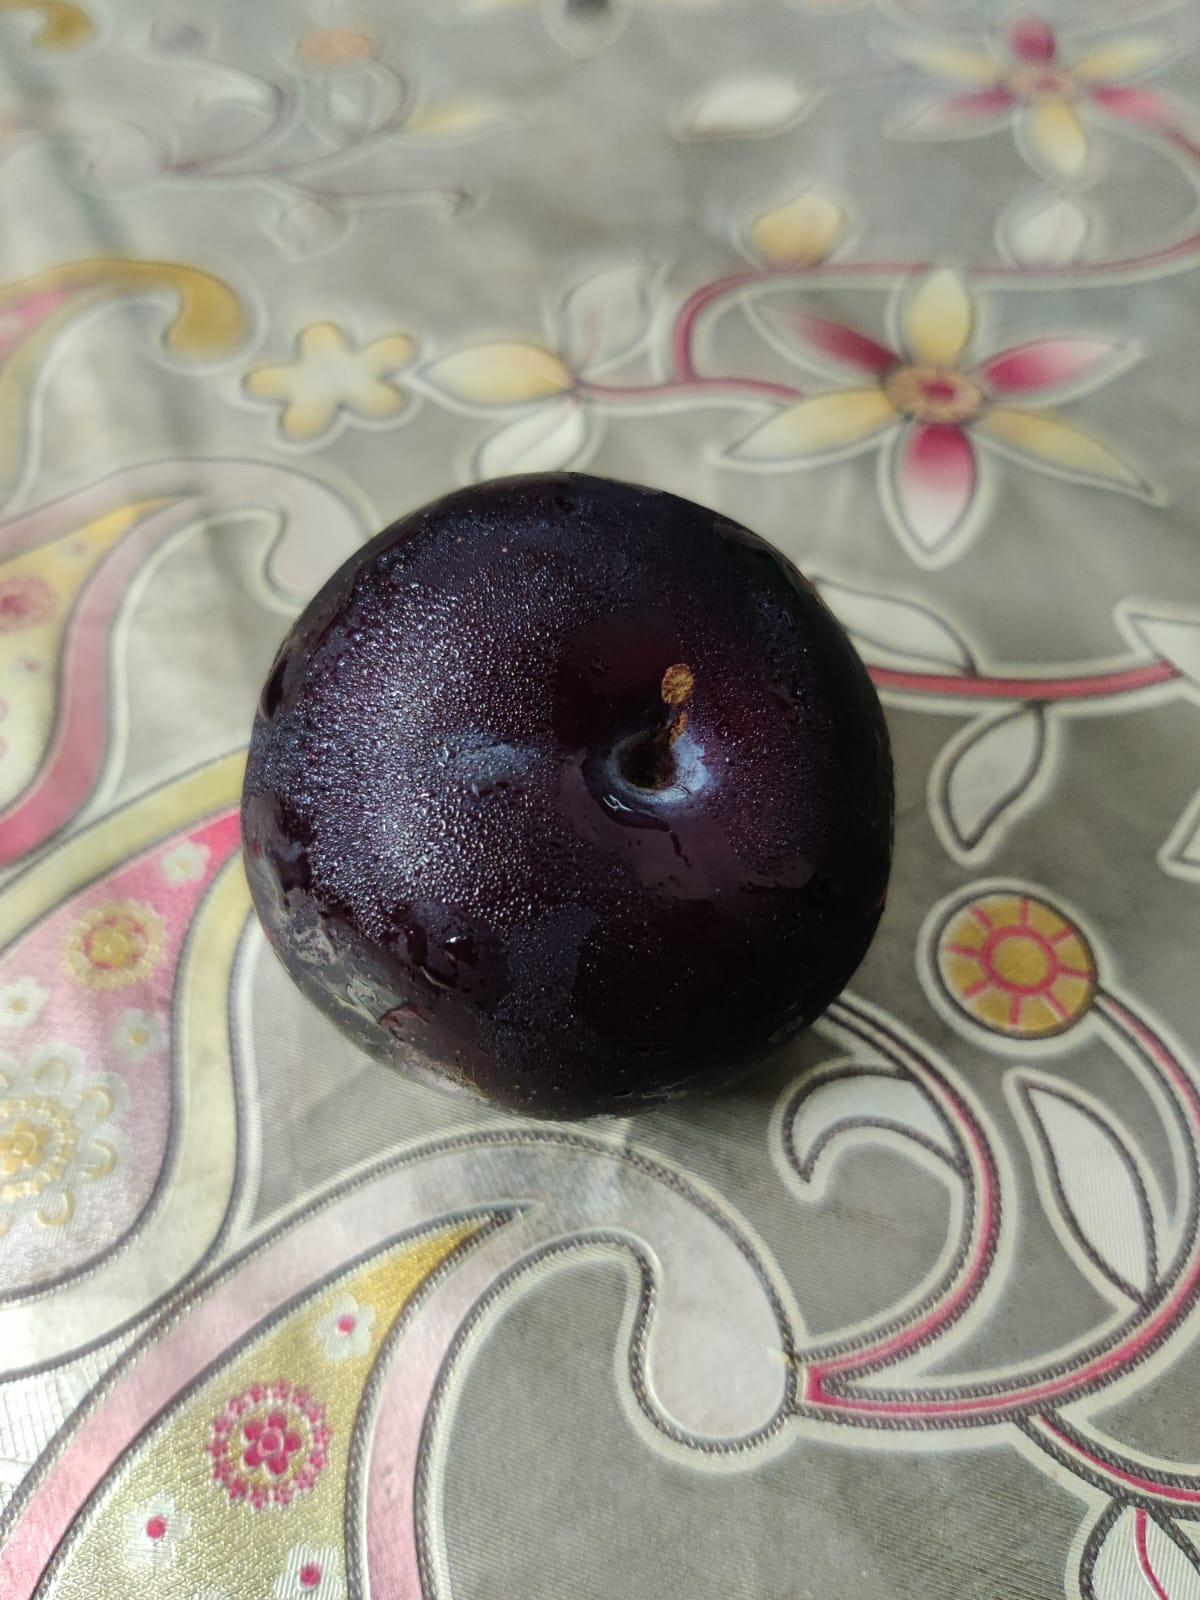non-mango: (239, 461, 920, 1131)
